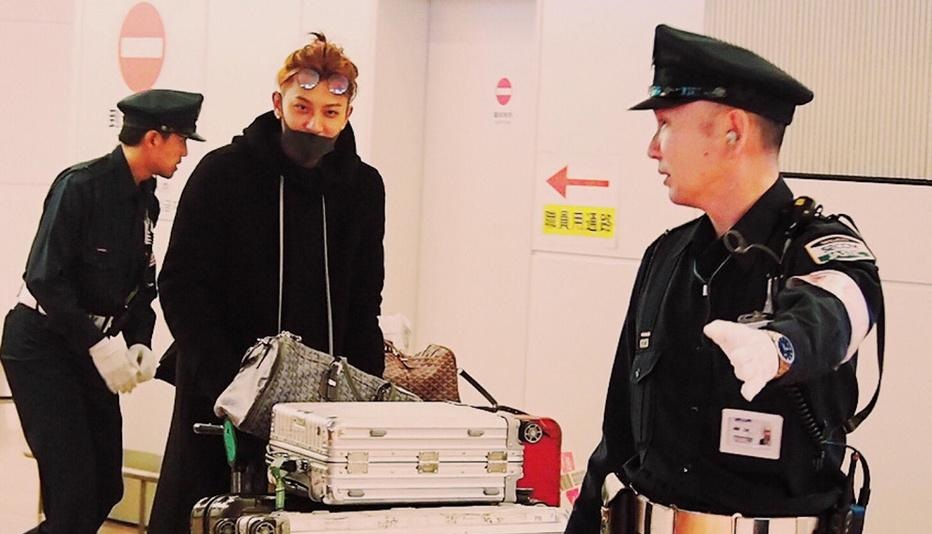face: (643, 93, 740, 208), (146, 128, 189, 181)
face_mask: (284, 74, 346, 157)
